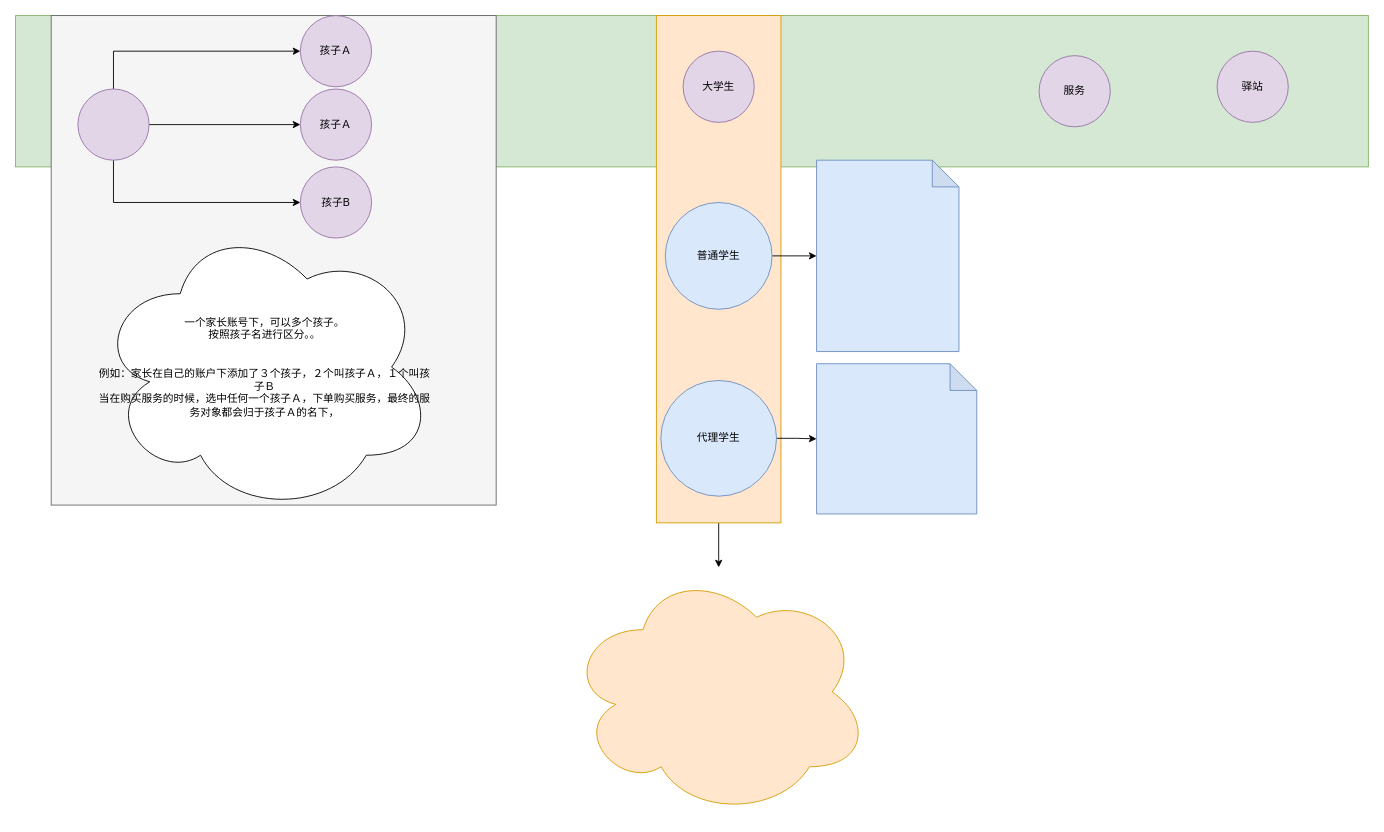
This 1384x832 diagram has some shape labels left out. Each missing label, with the centre of its shape:
"只能单纯的写信 审核完成一笔信件才有一笔收入 +5元" goes at pixel 887 255.
"家长账号" goes at pixel 113 124.
"这两种学生共用同一个大学生端，根绝角色的不同， 前端界面可以有适当的区别，前期建议不要有太大区别（尽量先功能统一）" goes at pixel 718 691.
"１．可以作为普通学生 ＋５元 ２．可以作为（学校）的代理，由我们平台进行指定，只要该学校的学生完成一笔信件，该学生自动获取+0.5元" goes at pixel 896 438.
